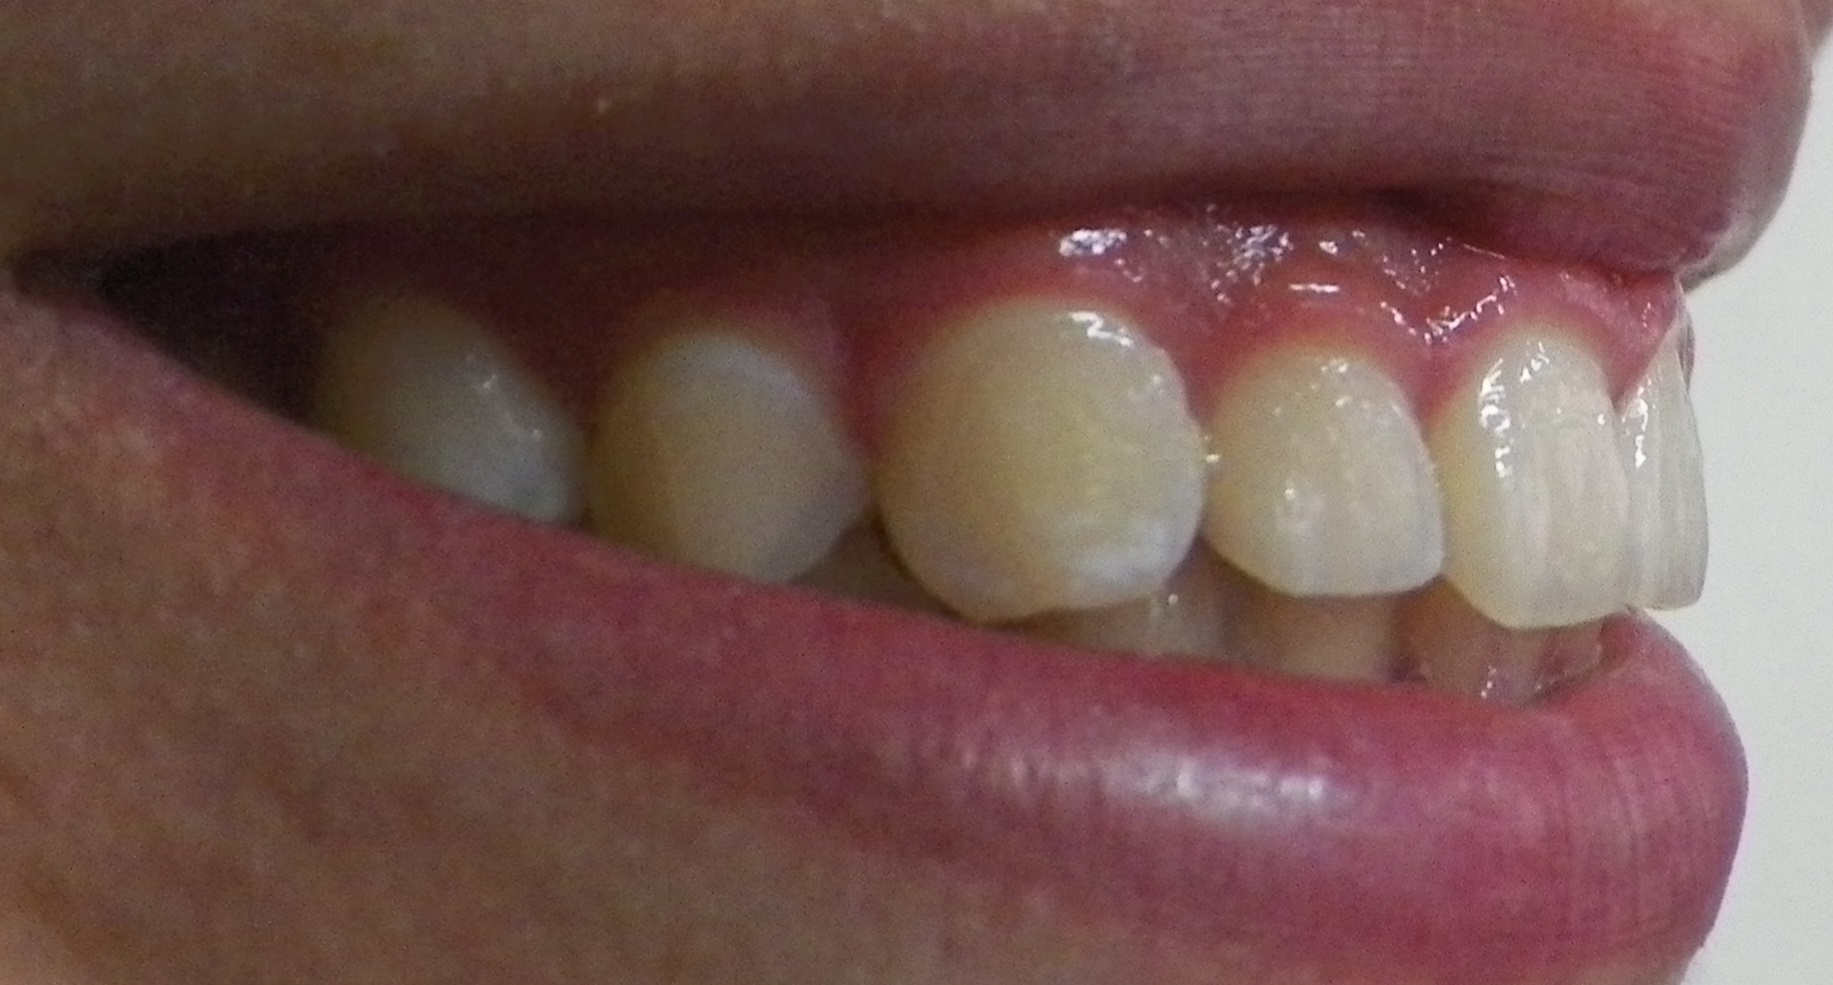boca: (298, 285, 1740, 704)
